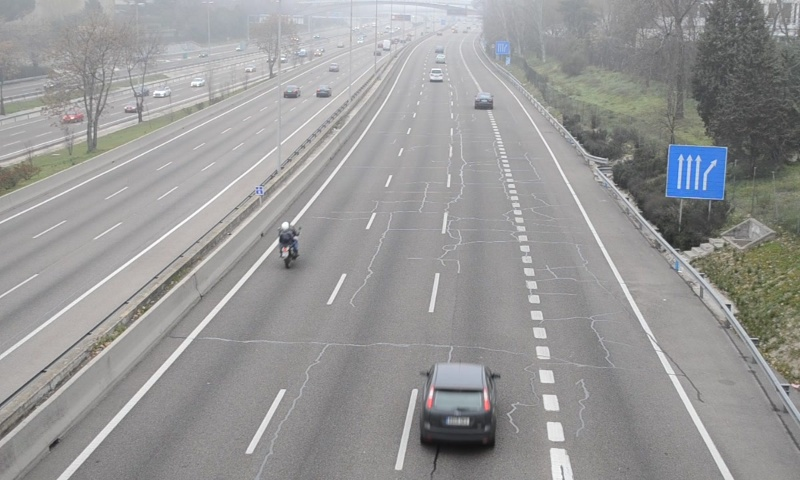car: (421, 363, 495, 443), (474, 92, 492, 109), (429, 68, 444, 83)
motorcycle: (276, 219, 300, 270)
